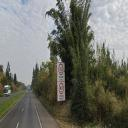speed_limit_110: (58, 64, 64, 76)
